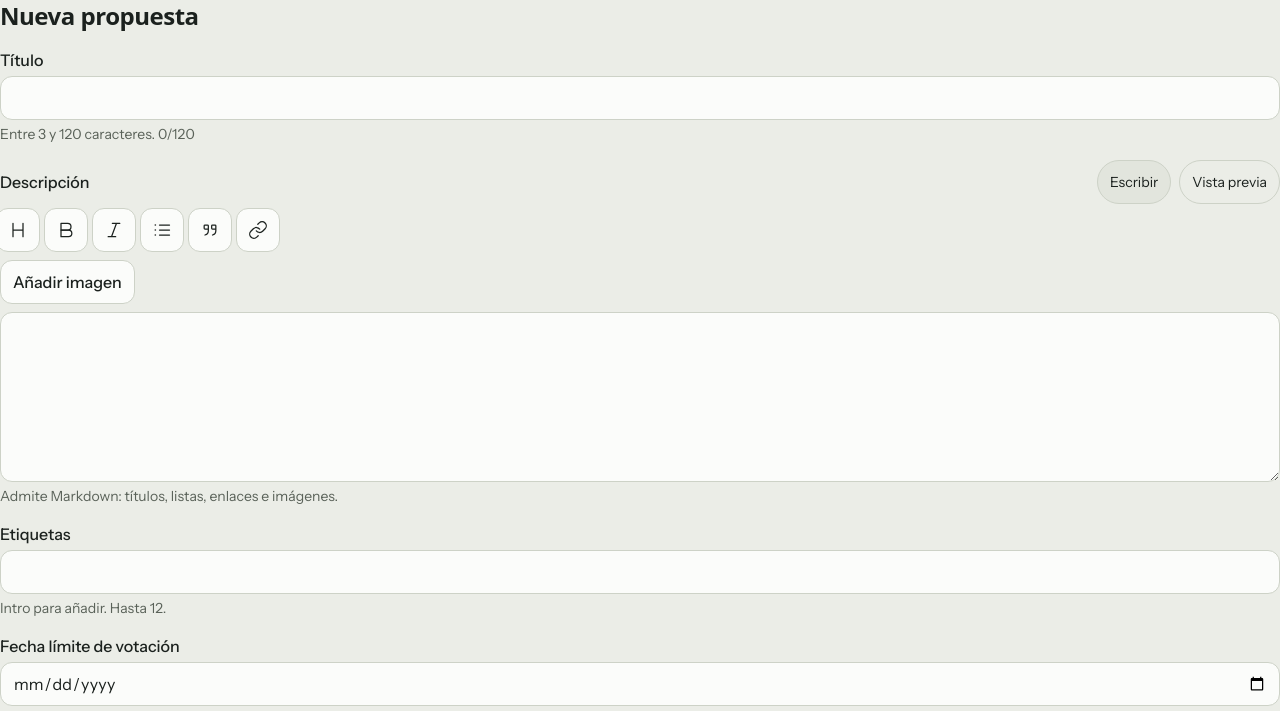
Scenario: ProposalForm › adds a tag with Enter without submitting the form
The image size is (1280, 711).
Type "Buy chairs" into the field labelled "Título".
click(640, 98); type("Buy chairs")  # box [0,76,1279,120]
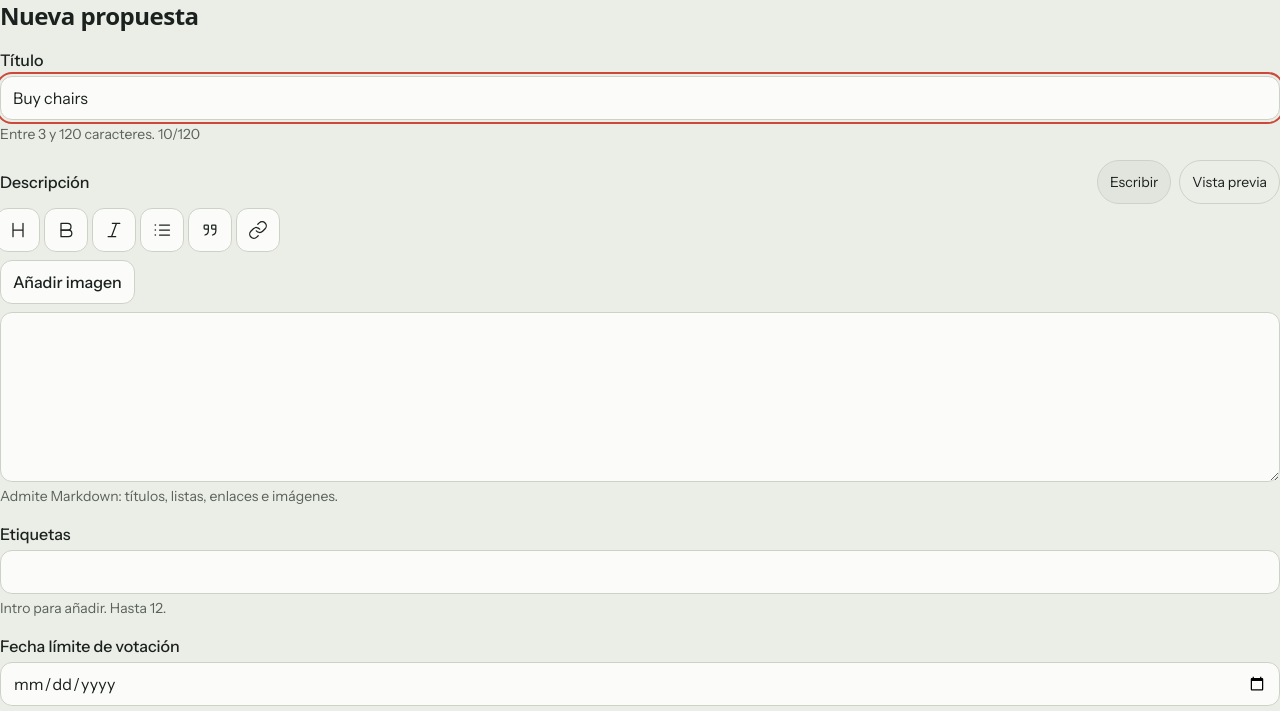
Type "casa" into the field labelled "Etiquetas".
click(640, 572); type("casa")  # box [0,550,1279,594]
Then press Enter
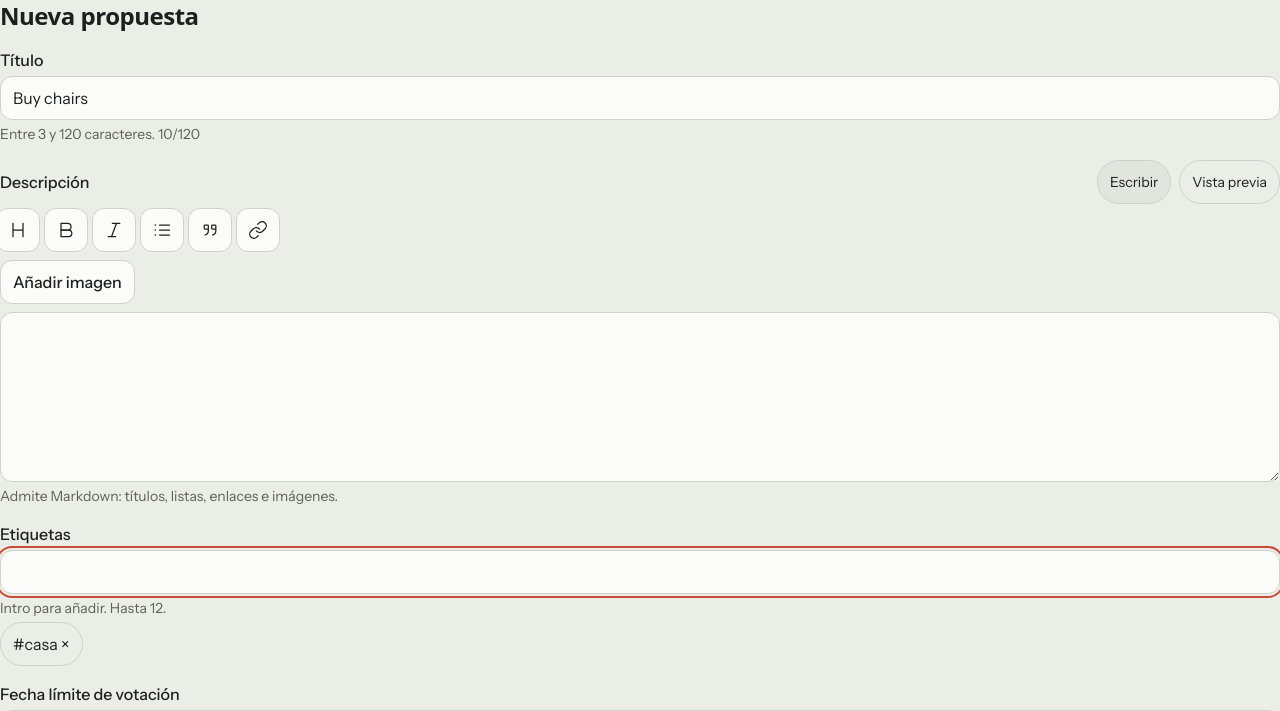
Expected: the button with aria-label "Quitar la etiqueta casa" is shown, [0,622,82,666]
